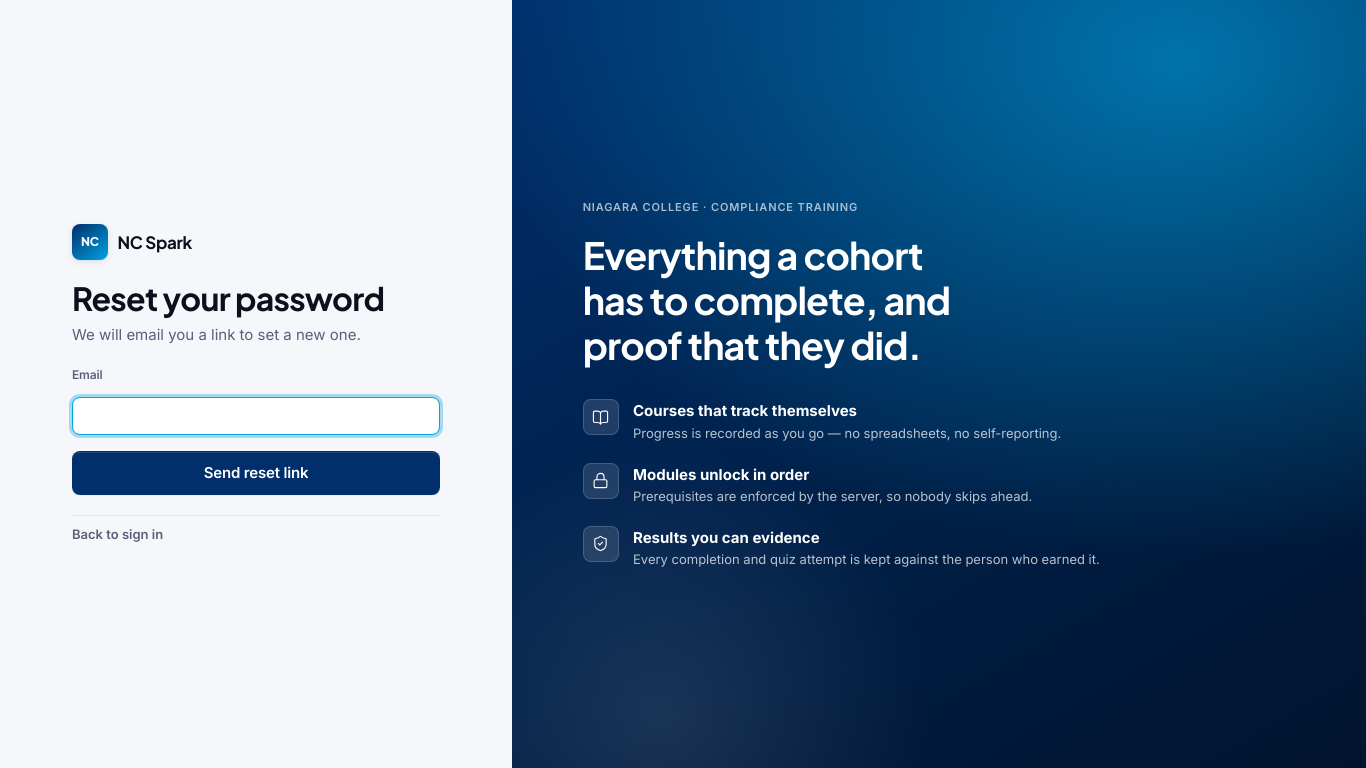
Test case: when the request fails › shows the failure and keeps the form
Type "sam@example.com" into the field labelled "Email" at (256, 416), box 72,397 -> 440,435
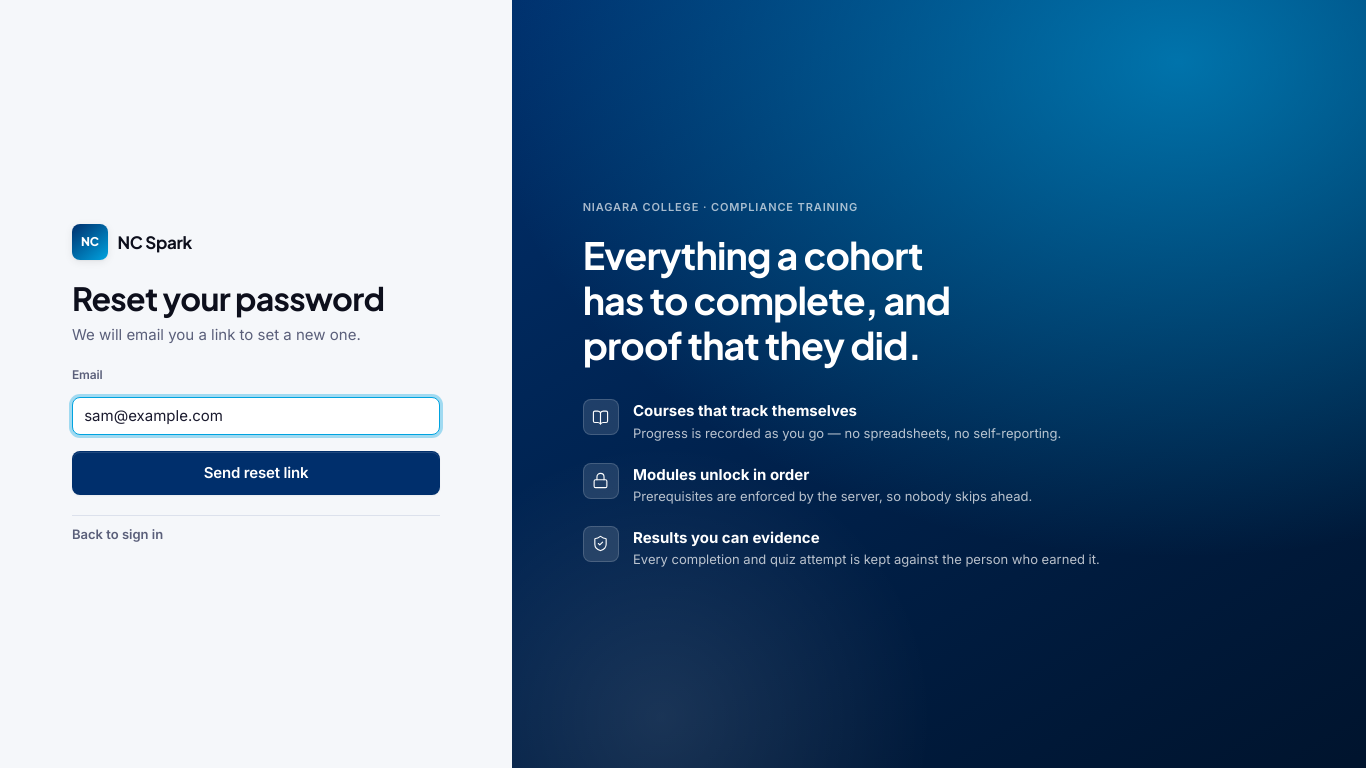
Click the button "Send reset link" at (256, 473), box 72,451 -> 440,495
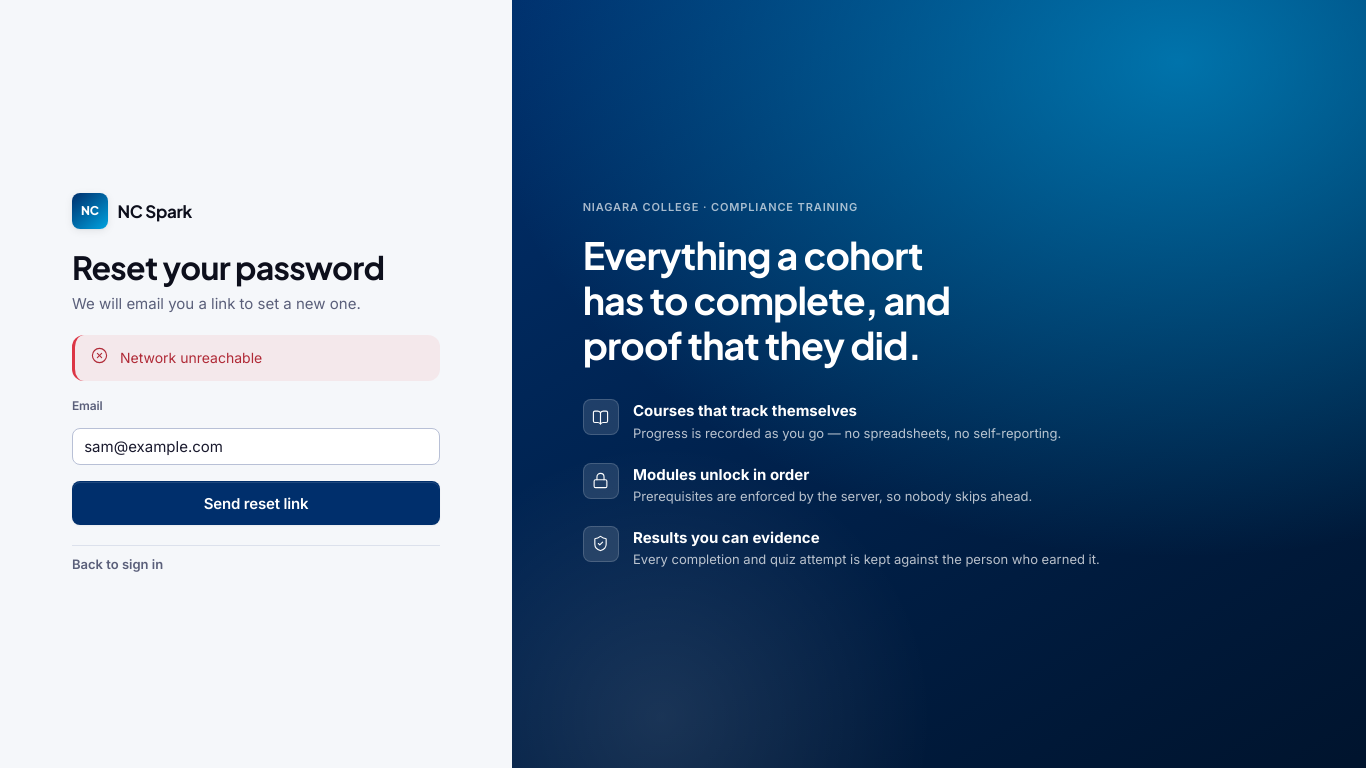
Check: the message reads "Network unreachable", box 120,349 -> 262,366
